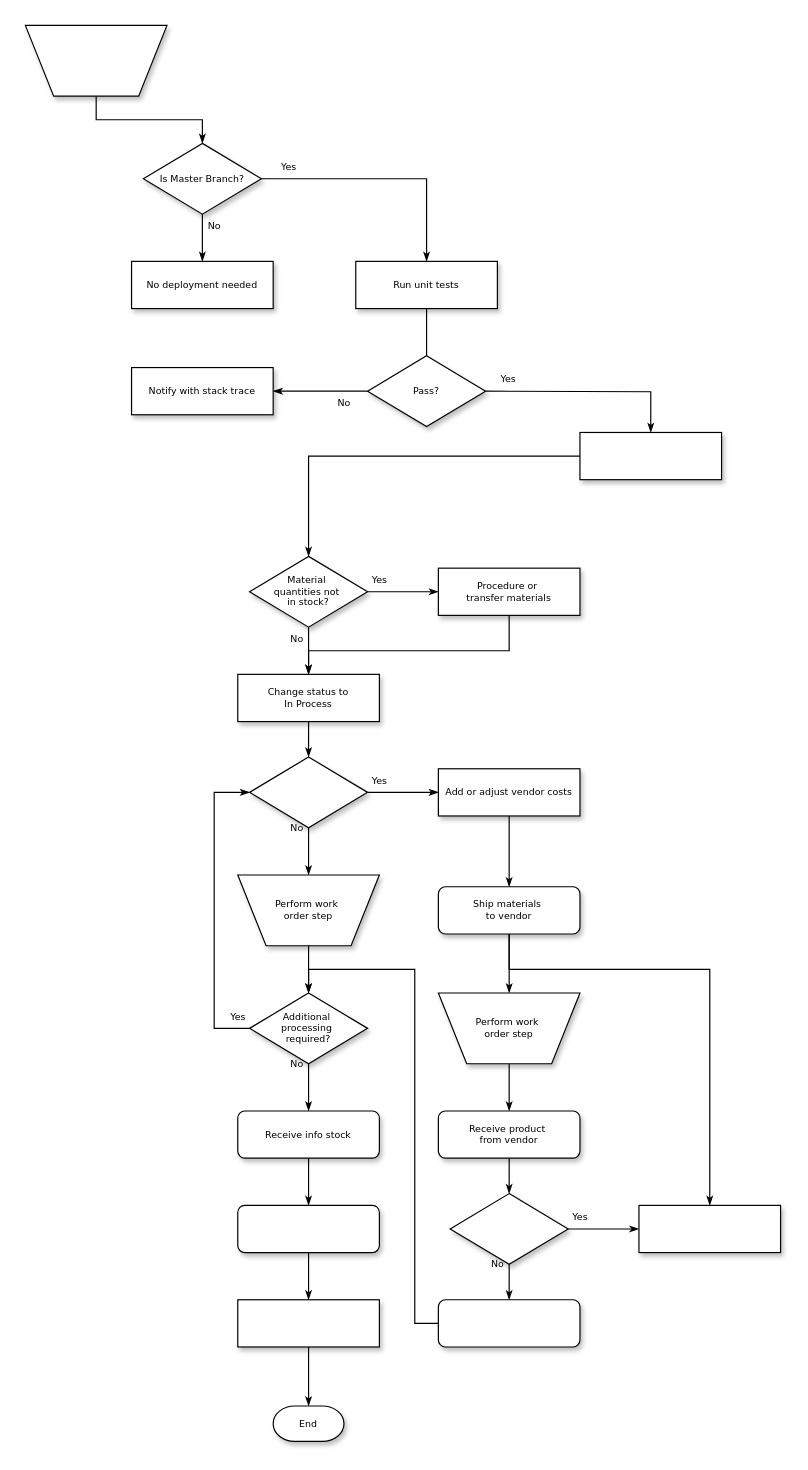
Image size: 808x1470. Some labels were removed from this diagram. The shapes that lost their labels are listed below. From the top down, each one's centre as x and y in pixels, then its label:
pixel 96 61: Check in code
pixel 651 457: Is active deployment Blue?
pixel 309 793: Step performed by outside vendor?
pixel 309 1230: Ship product on order if needed
pixel 509 1230: Only partial quality received?
pixel 710 1230: Create work order backorder
pixel 309 1324: Change status to Complete
pixel 509 1324: Pay vendor invoice
